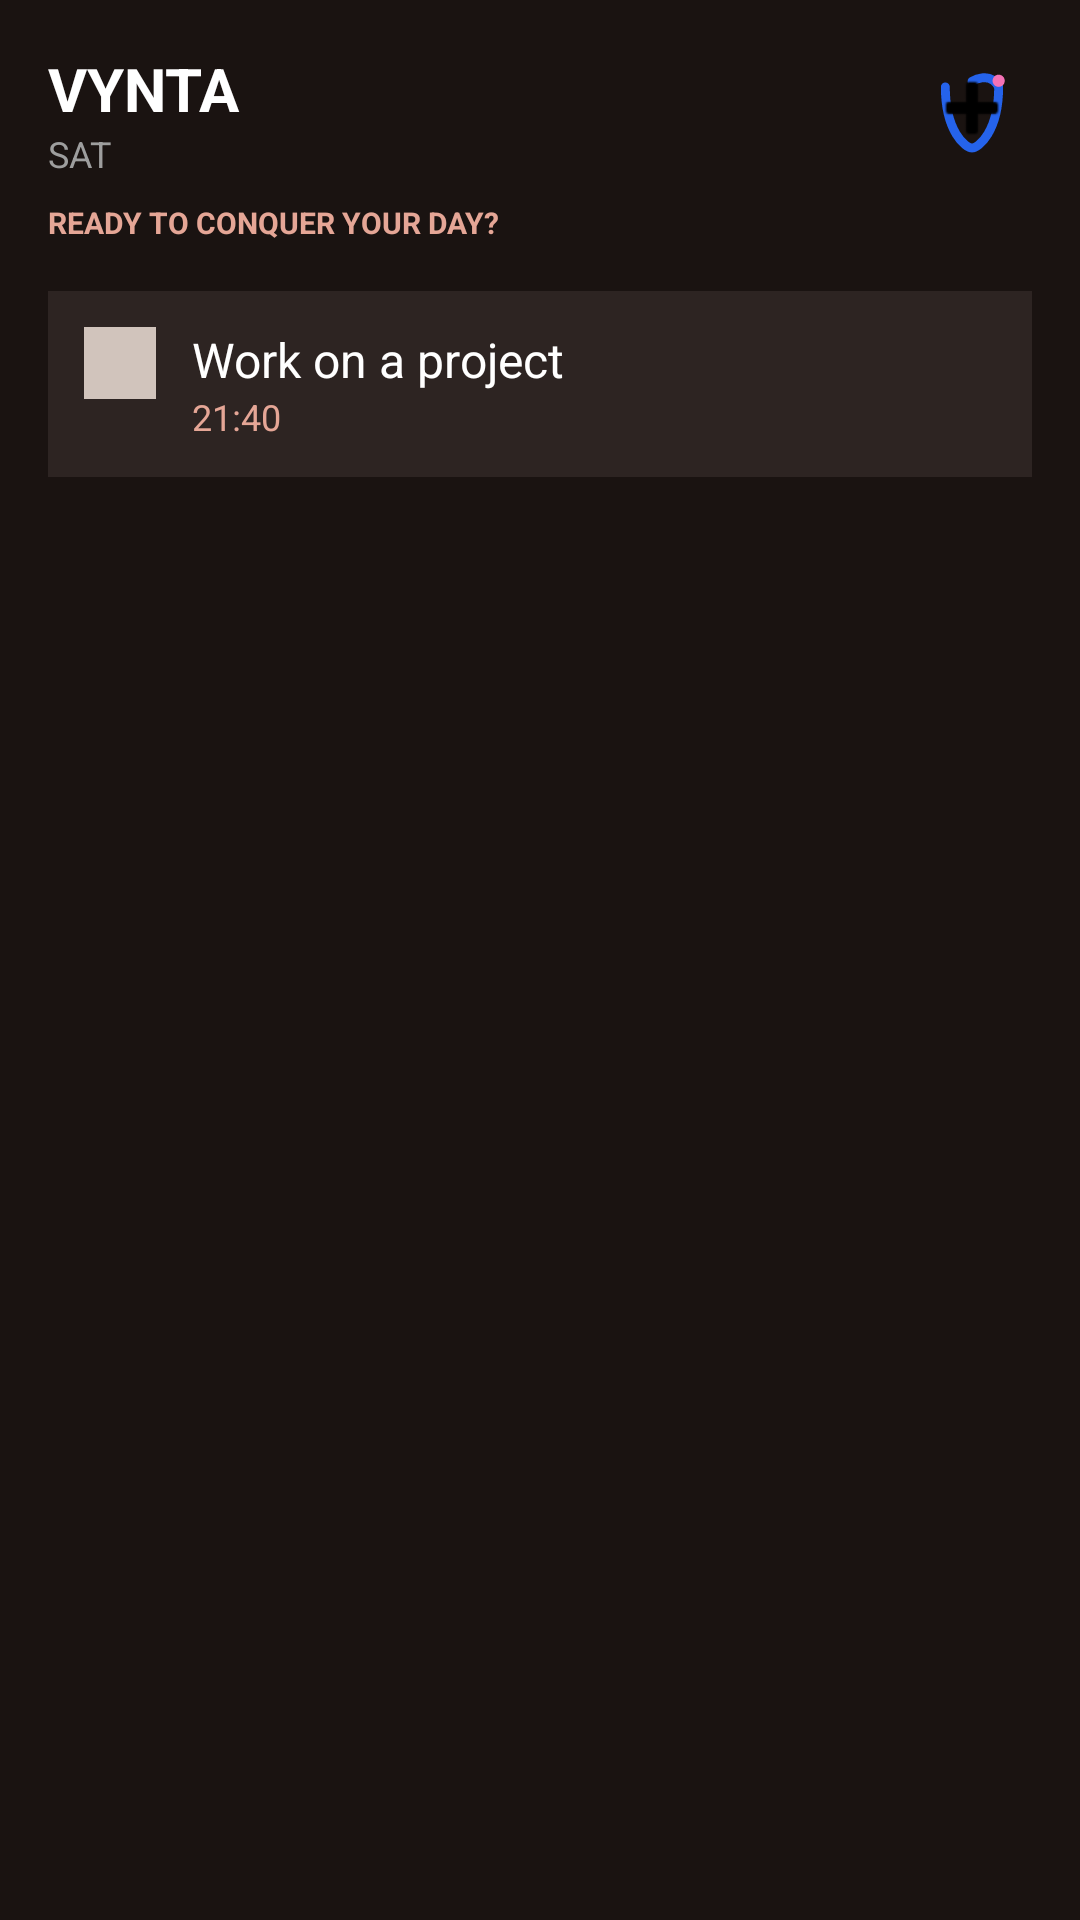

Icon bounding boxes for this 1080x1920 phone screenshot, format (x1, y1, x2, y2):
add: (941, 73, 1005, 153)
